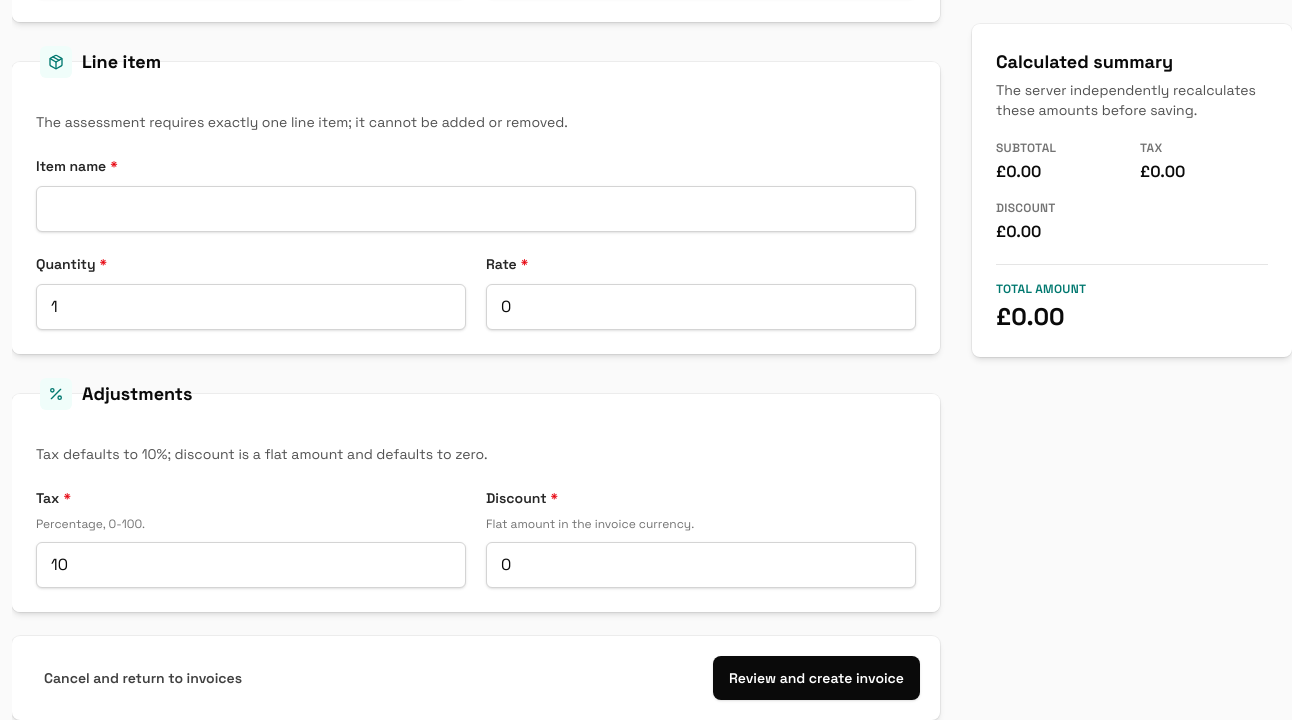
CreateInvoiceForm › blocks submission of an empty form and shows a summary error
(page scrolled)
Click the button "Review and create invoice". click: (816, 678)
box: [713,656,920,700]
(page scrolled)
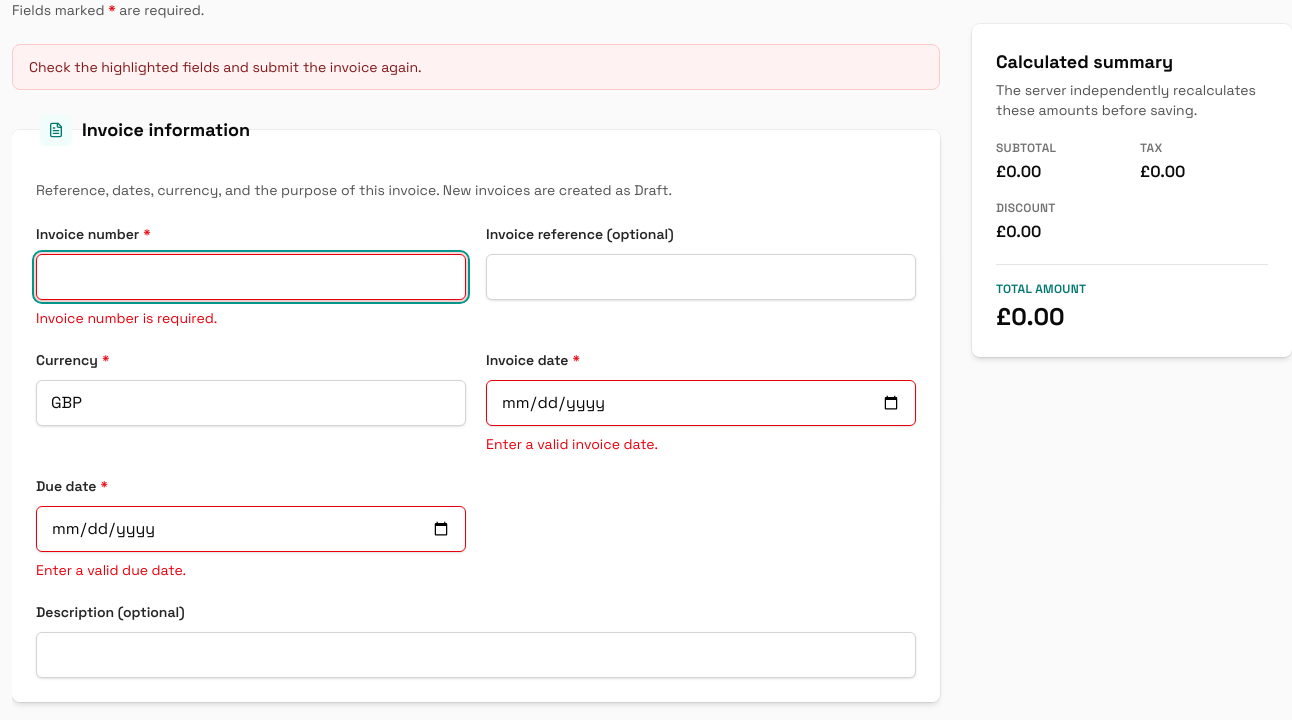
Expected: the text "Check the highlighted fields and submit the invoice again." is shown, [12,44,940,90]
